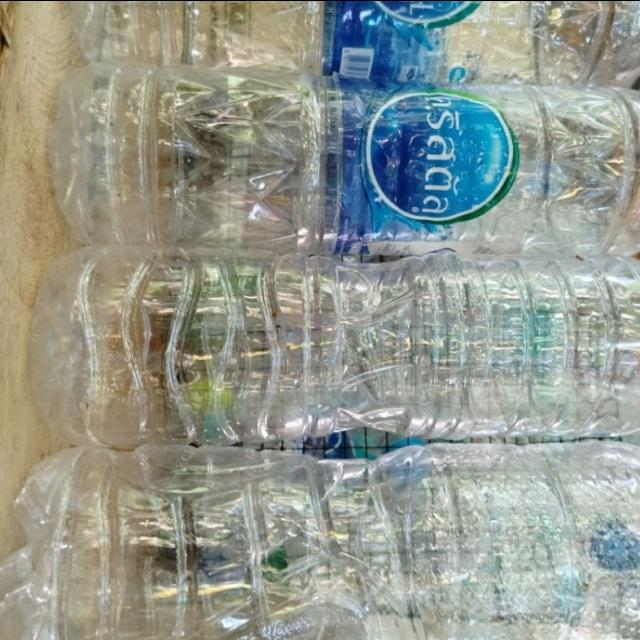plastik: (0, 441, 640, 640), (32, 246, 640, 447), (48, 63, 640, 254), (71, 0, 640, 85)
